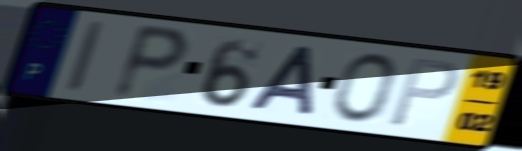6: (199, 36, 263, 110)
A: (245, 43, 320, 119)
I: (63, 18, 108, 96)
O: (330, 51, 398, 126)
P: (108, 21, 193, 103), (386, 56, 463, 130)
